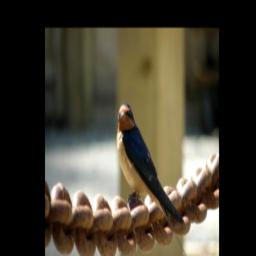Swallow: (115, 102, 194, 256)
